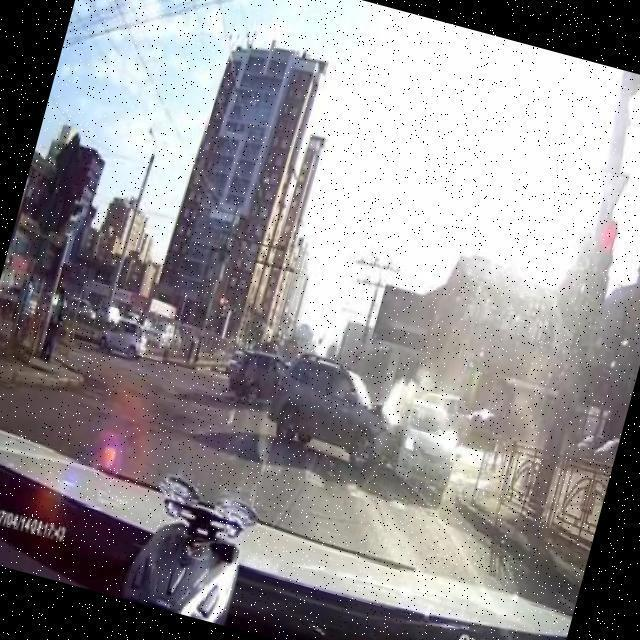accident: (310, 363, 478, 500)
